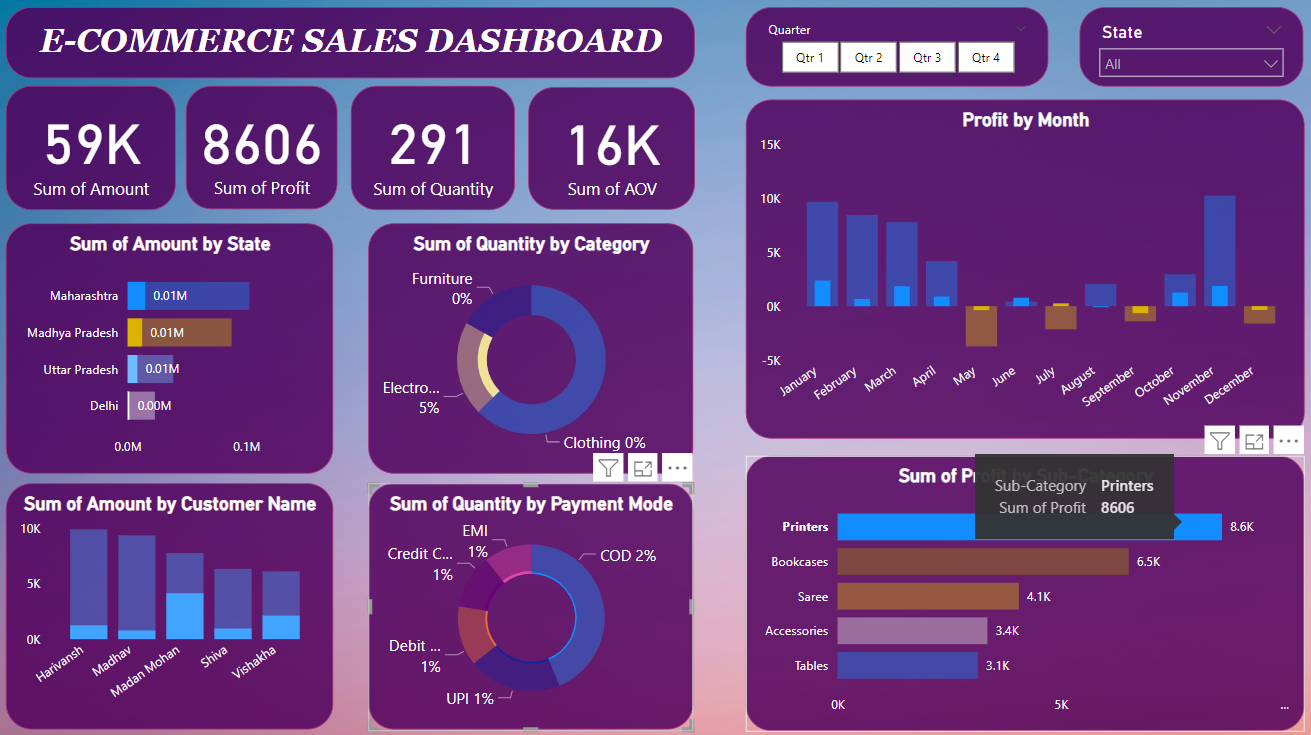

The page's visual inventory and layout, read from the dashboard file:
{"tool":"powerbi","page":{"name":"Page 1","canvas":[1280,720],"ordinal":0},"visuals":[{"type":"textbox","box":[13.3,14.5,664.5,68.7],"z":0},{"type":"columnChart","title":"Profit by Month","fields":{"Category":["Orders.Order Date.Variation.Date Hierarchy.Month"],"Y":["Sum(Details.Profit)"]},"box":[727.2,103.7,539.1,326.8],"z":1000},{"type":"barChart","fields":{"Category":["Details.Sub-Category"],"Y":["Sum(Details.Profit)"]},"box":[726,445,539.1,266.5],"z":2000},{"type":"donutChart","fields":{"Category":["Details.Category"],"Y":["Sum(Details.Quantity)"]},"box":[363,223.1,313.6,241.2],"z":3000},{"type":"donutChart","title":"Sum of Quantity by Payment Mode","fields":{"Y":["Sum(Details.Quantity)"],"Category":["Details.PaymentMode"]},"box":[362.5,473.9,313.6,238.6],"z":4000},{"type":"card","fields":{"Values":["Sum(Details.Amount)"]},"box":[13,91,164,120],"z":5000},{"type":"card","fields":{"Values":["Sum(Details.Quantity)"]},"box":[346,90,158,120],"z":6000},{"type":"card","fields":{"Values":["Sum(Details.Profit)"]},"box":[187,91,146,119],"z":7000},{"type":"card","fields":{"Values":["Sum(Details.AOV)"]},"box":[517,92,161,118],"z":8000},{"type":"barChart","fields":{"Category":["Orders.State"],"Y":["Sum(Details.Amount)"]},"box":[13.3,223.1,316,241.2],"z":9000},{"type":"columnChart","title":"Sum of Amount by Customer Name","fields":{"Category":["Orders.CustomerName"],"Y":["Sum(Details.Amount)"]},"box":[13.6,473.9,315.9,238.6],"z":10000},{"type":"slicer","fields":{"Values":["Orders.Order Date.Variation.Date Hierarchy.Quarter"]},"box":[727.2,14.5,291.9,77.2],"z":11000},{"type":"slicer","fields":{"Values":["Orders.State"]},"box":[1049.2,14.5,215.9,77.2],"z":12000}]}

Visuals, with their boxes in screenshot pixels (x1, y1, x2, y2), scaled from the page's 1280x720 canvas onto the 1311x735 screenshot:
textbox: [left=14, top=15, right=694, bottom=85]
"Profit by Month" columnChart: [left=745, top=106, right=1297, bottom=439]
barChart - Details.Sub-Category x Sum(Details.Profit): [left=744, top=454, right=1296, bottom=726]
donutChart - Details.Category x Sum(Details.Quantity): [left=372, top=228, right=693, bottom=474]
"Sum of Quantity by Payment Mode" donutChart: [left=371, top=484, right=692, bottom=727]
card - Sum(Details.Amount): [left=13, top=93, right=181, bottom=215]
card - Sum(Details.Quantity): [left=354, top=92, right=516, bottom=214]
card - Sum(Details.Profit): [left=192, top=93, right=341, bottom=214]
card - Sum(Details.AOV): [left=530, top=94, right=694, bottom=214]
barChart - Orders.State x Sum(Details.Amount): [left=14, top=228, right=337, bottom=474]
"Sum of Amount by Customer Name" columnChart: [left=14, top=484, right=337, bottom=727]
slicer - Orders.Order Date.Variation.Date Hierarchy.Quarter: [left=745, top=15, right=1044, bottom=94]
slicer - Orders.State: [left=1075, top=15, right=1296, bottom=94]
